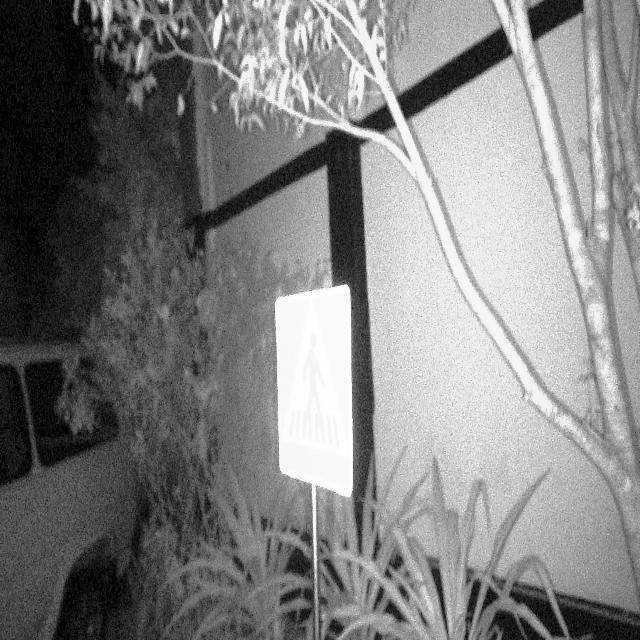Sign: (274, 283, 356, 499)
Tree: (485, 1, 639, 639)
